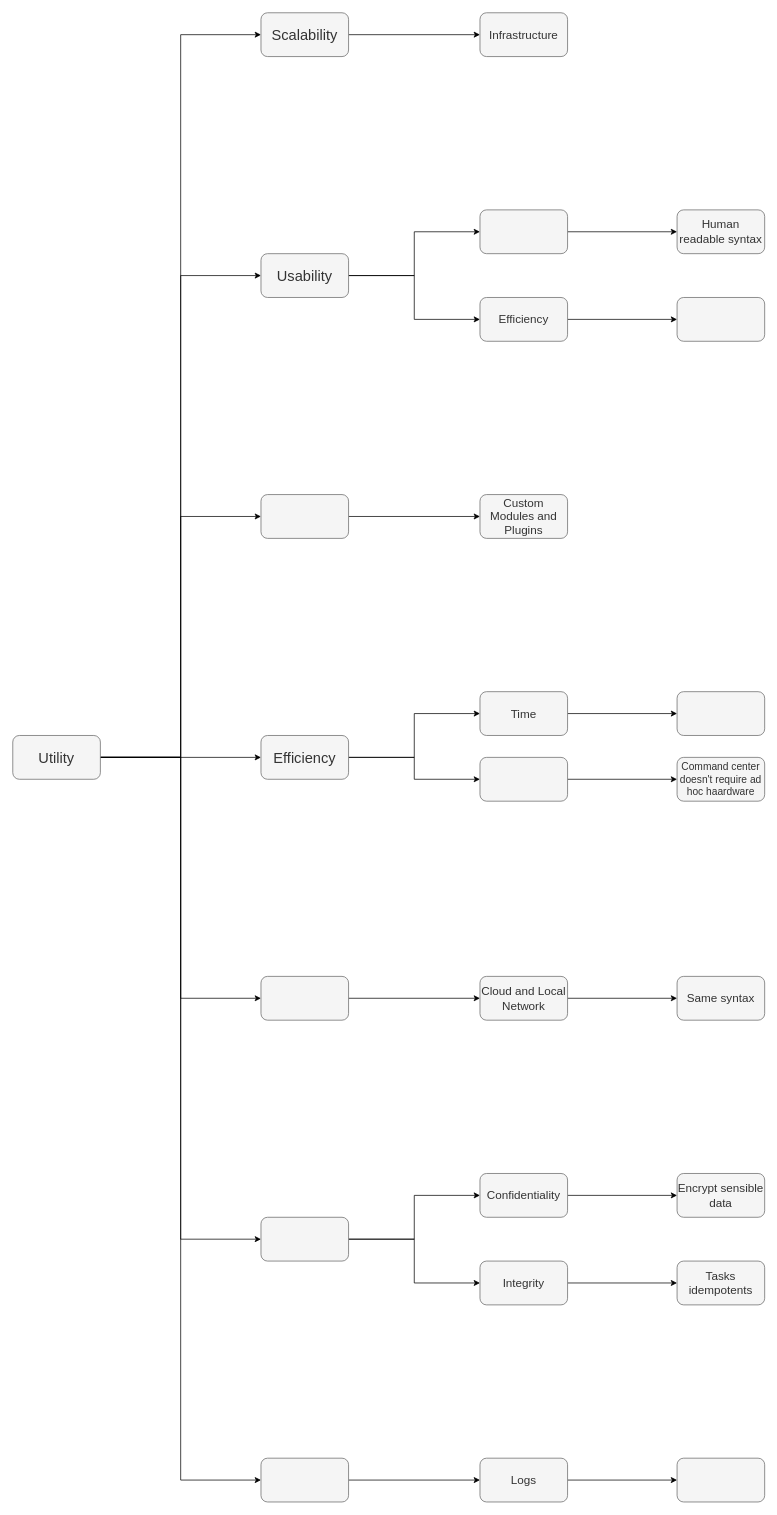
This 777x1515 diagram has some shape labels left out. The shapes that lost their labels are listed below. From the top down, each one's box as (x1, y1, x2, y2) in pixels, then its label:
(479, 209, 568, 254): Learnability
(676, 297, 765, 341): Faster than manually
(260, 494, 349, 538): Modifiability
(676, 691, 765, 735): Normal size network under one minute
(479, 757, 568, 801): Resources
(260, 976, 349, 1020): Interoperability
(260, 1217, 349, 1261): Security
(260, 1457, 349, 1502): Operability
(676, 1457, 765, 1502): Stored forever
